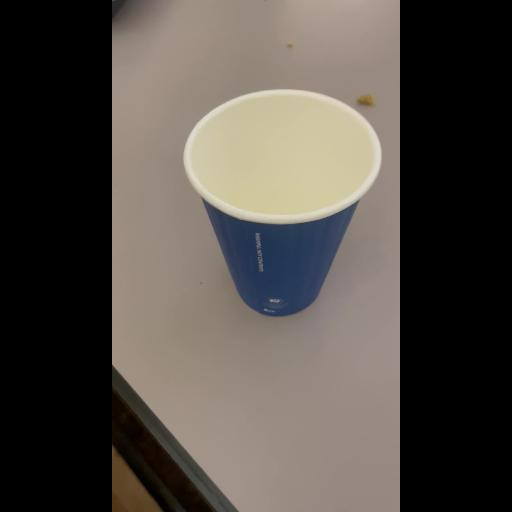lp_paper_cup: (176, 83, 384, 319)
